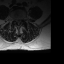CCS_normal: (17, 18, 19, 26)
LFS_severe_stenosis: (21, 17, 23, 22)
LLS_normal: (19, 18, 21, 24)
RFS_stenosis: (14, 17, 16, 22)
RLS_stenosis: (16, 18, 17, 24)
